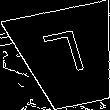L_S: (43, 30, 94, 86)
